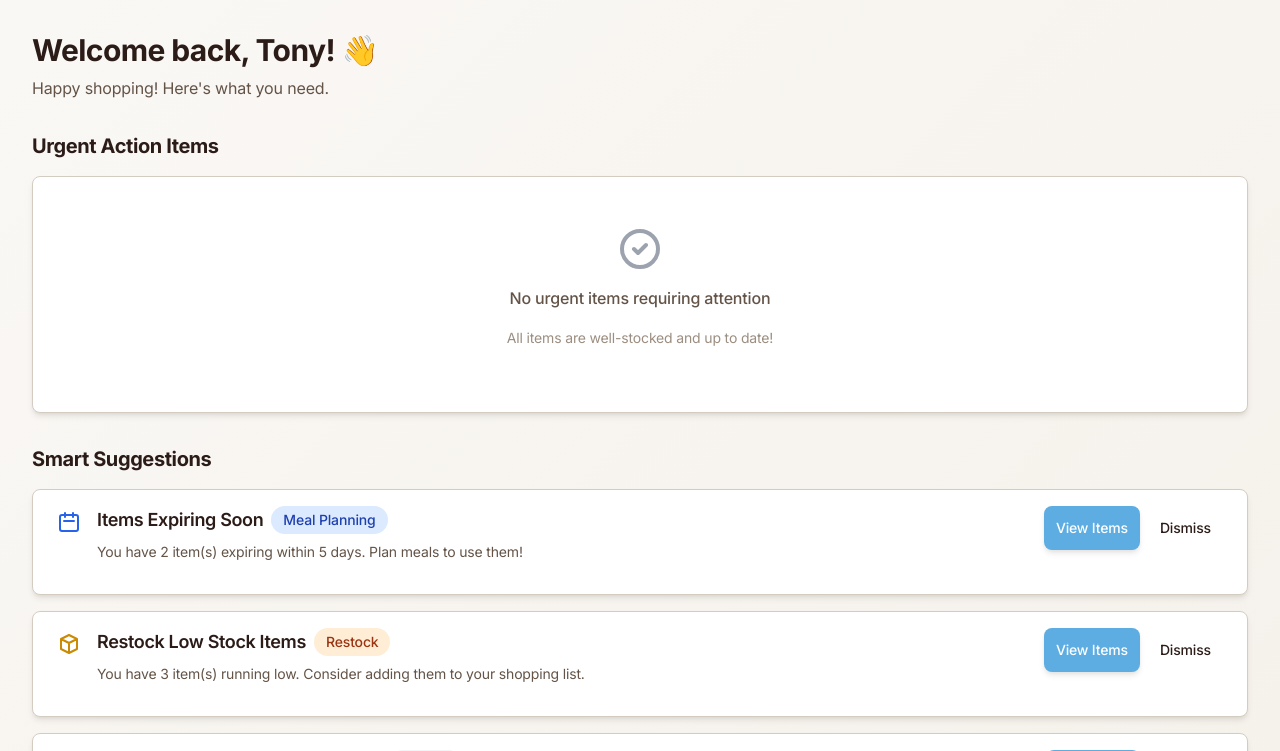
it: Dashboard Page › Smart Suggestions Integration › should handle suggestion dismissal
This screenshot has width=1280, height=751.
Check: the heading "Restock Low Stock Items" is shown, box [97,628,306,656]
Click the button with aria-label "dismiss suggestion: restock low stock items" at coordinates (1185, 650), box [1148,628,1223,672]
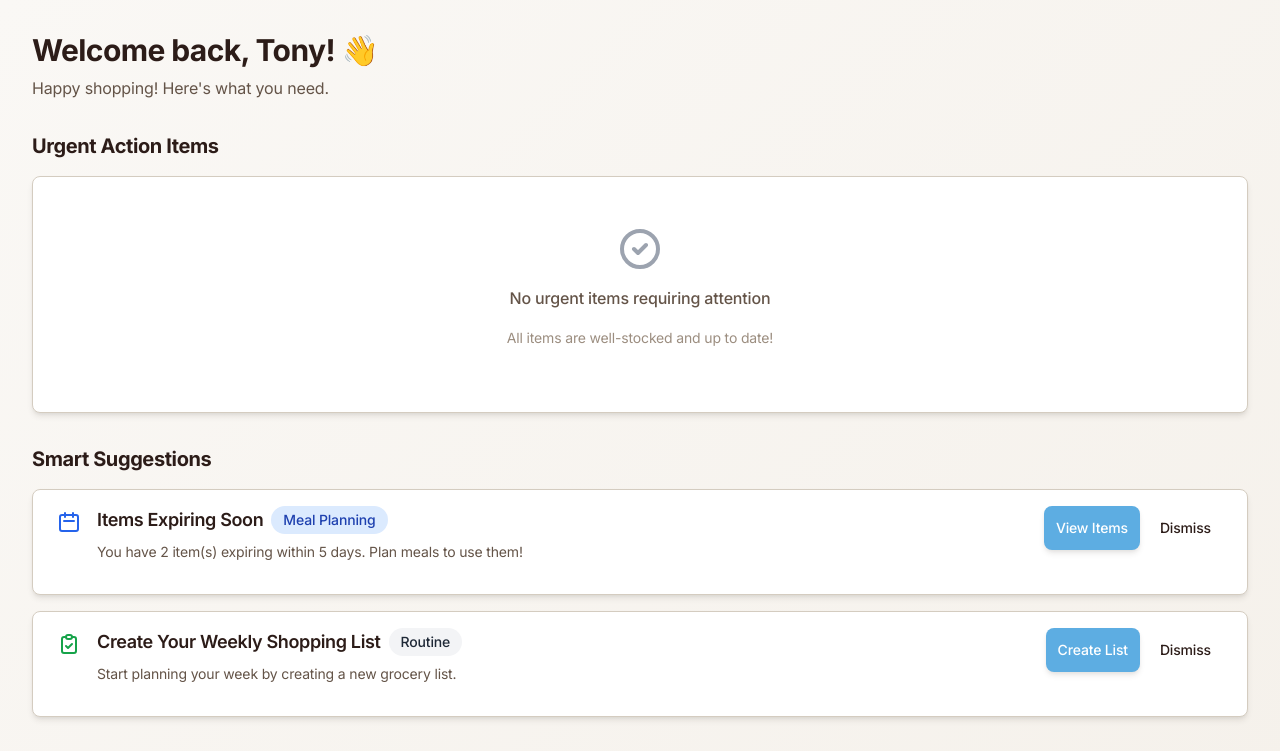
Check: the heading "Items Expiring Soon" is shown, box [97,506,263,534]
Check: the heading "Restock Low Stock Items" is gone
